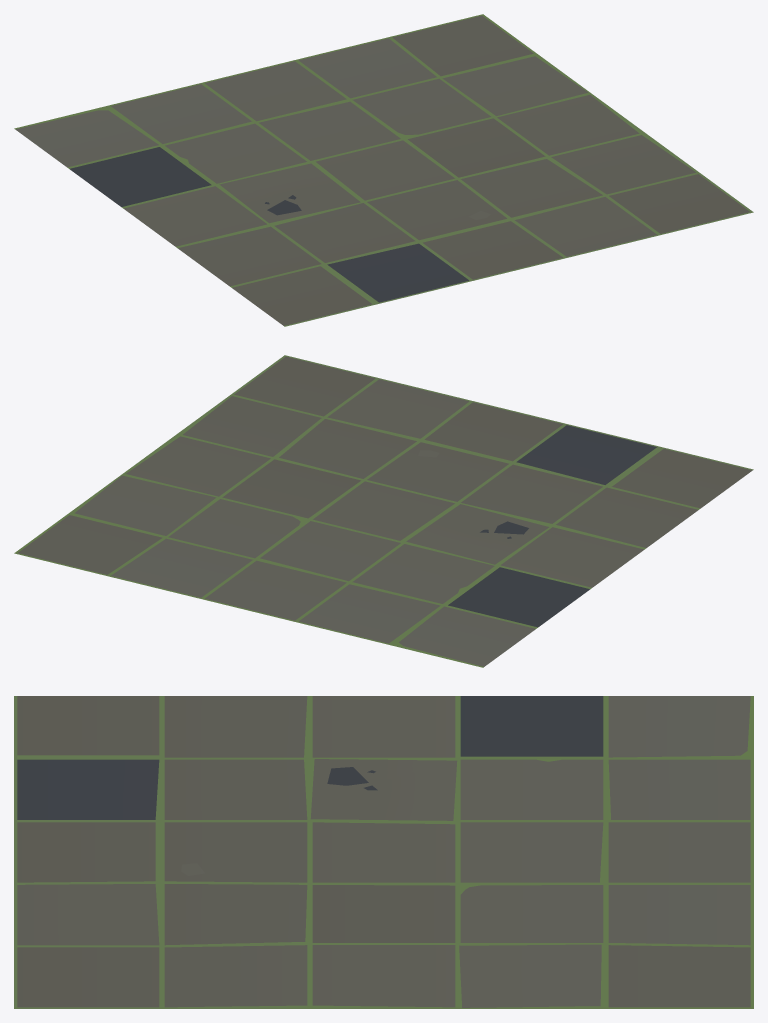
The model's file is Tile_08.fbx.
3 renders of one model, top to bottom at view 1: azimuth 30°, elevation 25°; view 2: azimuth 150°, elevation 25°; view 3: azimuth 270°, elevation 25°, orthographic. The views are drawn at different scales.
Parts seen in each view (by area): view 1: Tile_08; view 2: Tile_08; view 3: Tile_08.
Boxes of the visible parts, bbox=[...] form: Tile_08: bbox=[14, 14, 753, 326]; Tile_08: bbox=[14, 355, 753, 667]; Tile_08: bbox=[14, 696, 753, 1008].
Size of the model in its own units: 3 by 0 by 3.
